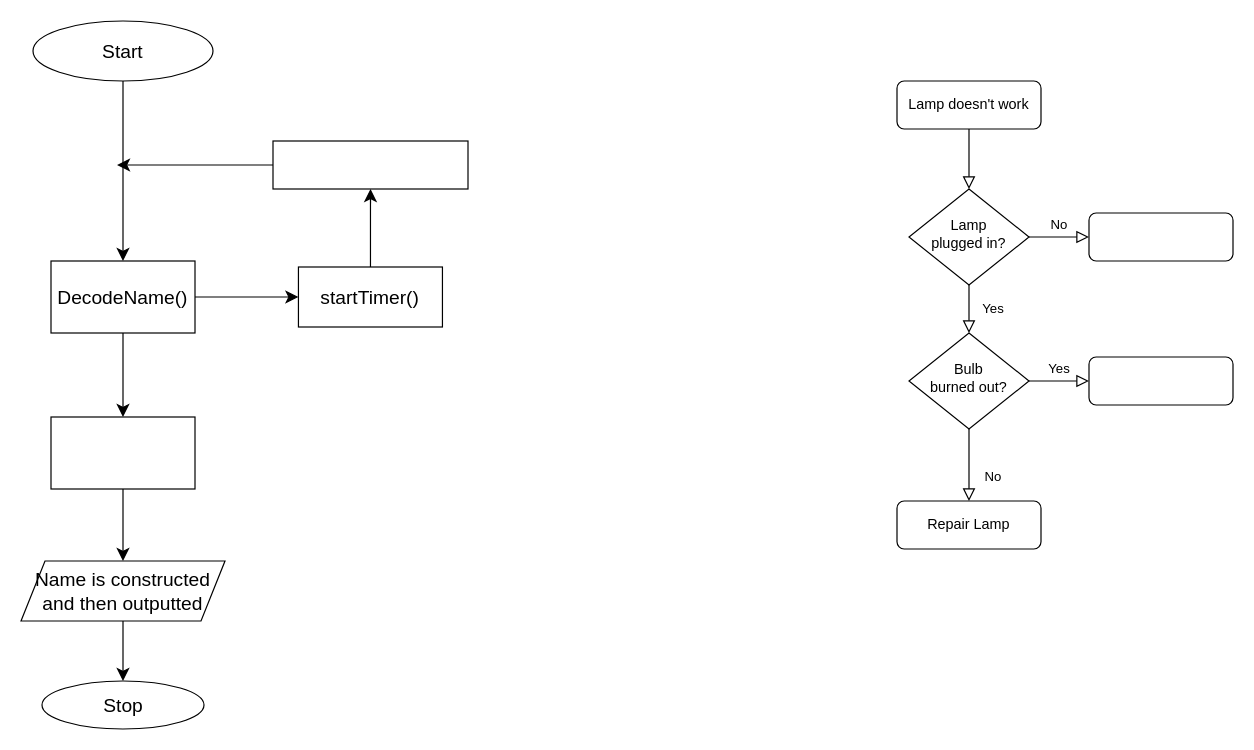
Some shapes in this 1254 by 750 pixel diagram are drawn without their labels. The centre of each missing label's shape, as x and y in pixels:
Plug in lamp: (1160,236)
Replace Bulb: (1160,380)
setTimerFrequency(): (370,164)
TC3_Handler: (122,452)
